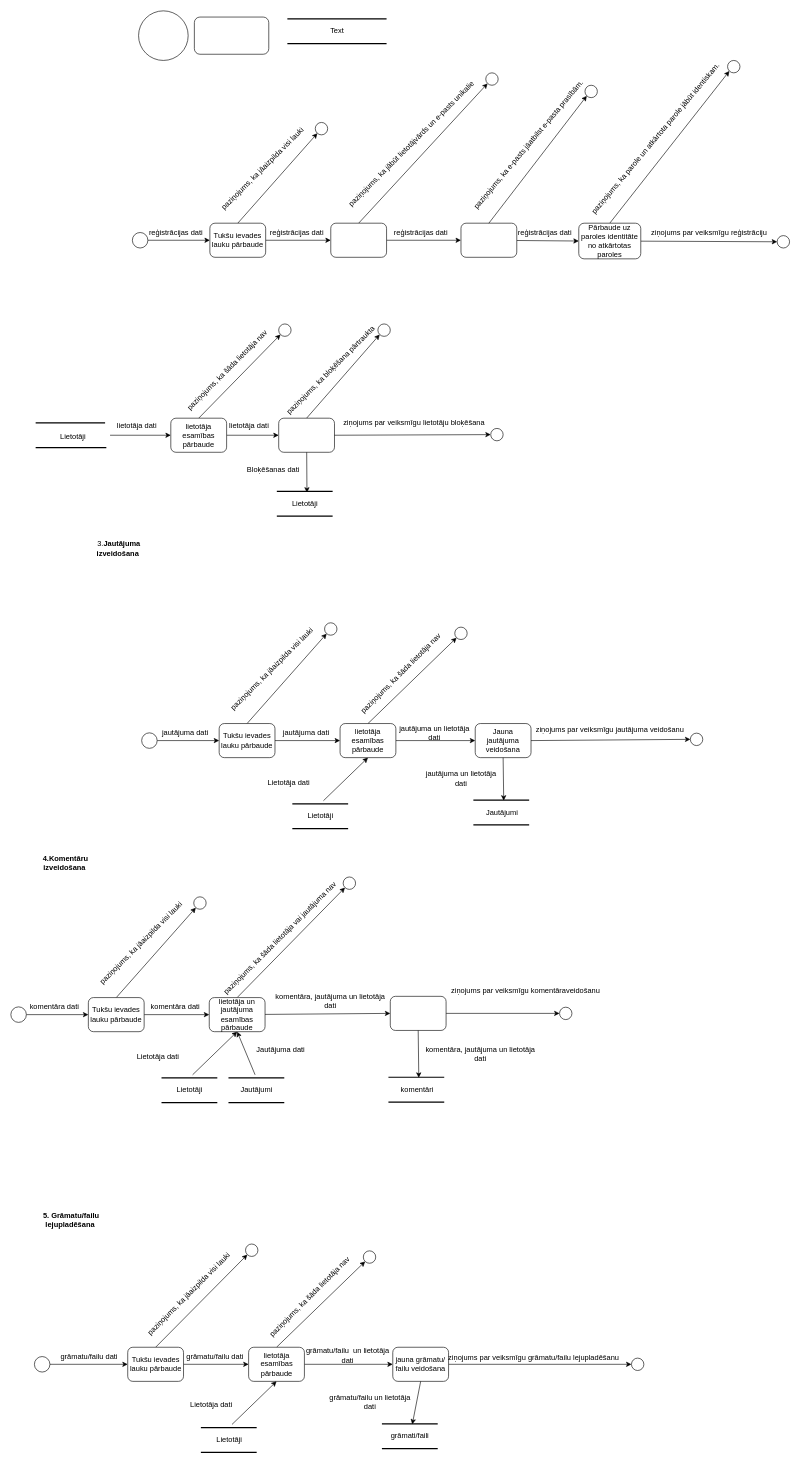
The diagram is 800 pixels wide and 1467 high, and some of its shapes have lost their labels. The box of each missing label's shape, as (x1, y1, x2, y2) in pixels:
Bloķēšanas apstiprināšana: (278, 418, 334, 452)
Jauna komentāra veidošana: (390, 996, 446, 1030)
Pārbaude uz epasta noformēšanu: (460, 223, 517, 257)
Pārbaude uz unikāliem datiem: (330, 223, 387, 257)
